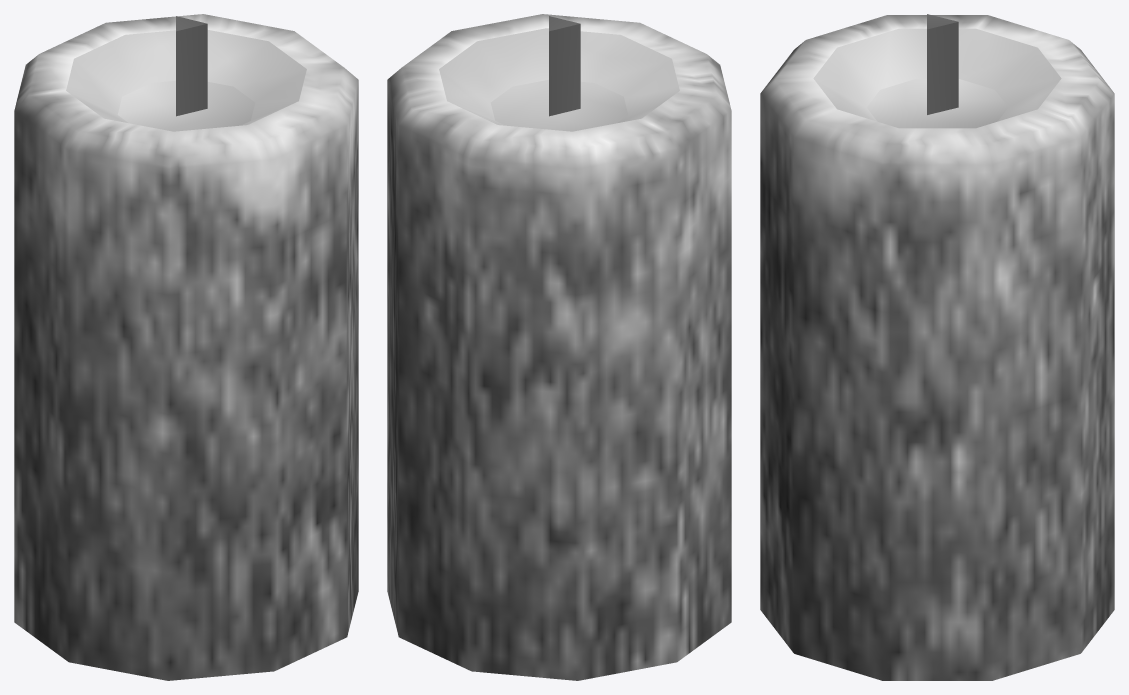
File: candle-02.fbx
The picture shows the model from 3 angles, left to right: view 1: azimuth 30°, elevation 25°; view 2: azimuth 150°, elevation 25°; view 3: azimuth 270°, elevation 25°; orthographic projection.
Parts seen in each view (by area): view 1: Cylinder.001; view 2: Cylinder.001; view 3: Cylinder.001.
Boxes of the visible parts, box(x1,y1,x2,y2) form: Cylinder.001: box(14, 14, 358, 680); Cylinder.001: box(387, 14, 731, 680); Cylinder.001: box(760, 14, 1114, 680).
Size of the model in its own units: 0.1902 by 0.3659 by 0.2.
